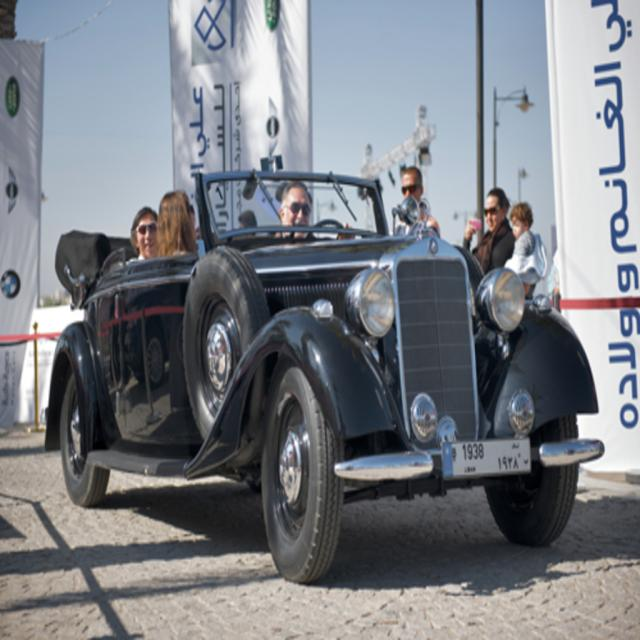car: (41, 162, 602, 581)
